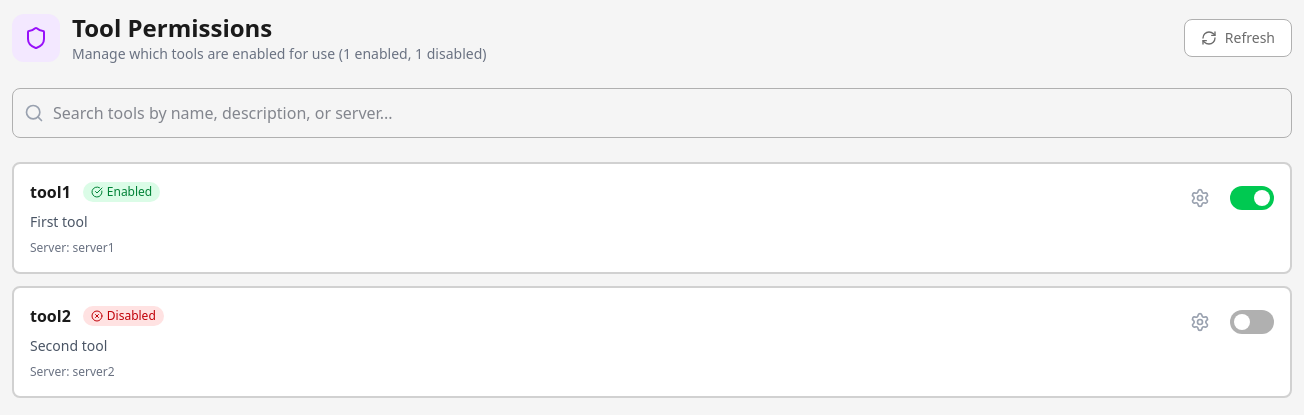
Test: ToolPermissionsManager › should show no matching tools when search has no results
Step 1. Type "nonexistent" into the field with test id "tool-search-input" → point(652, 113), box x1=12 y1=88 x2=1292 y2=138
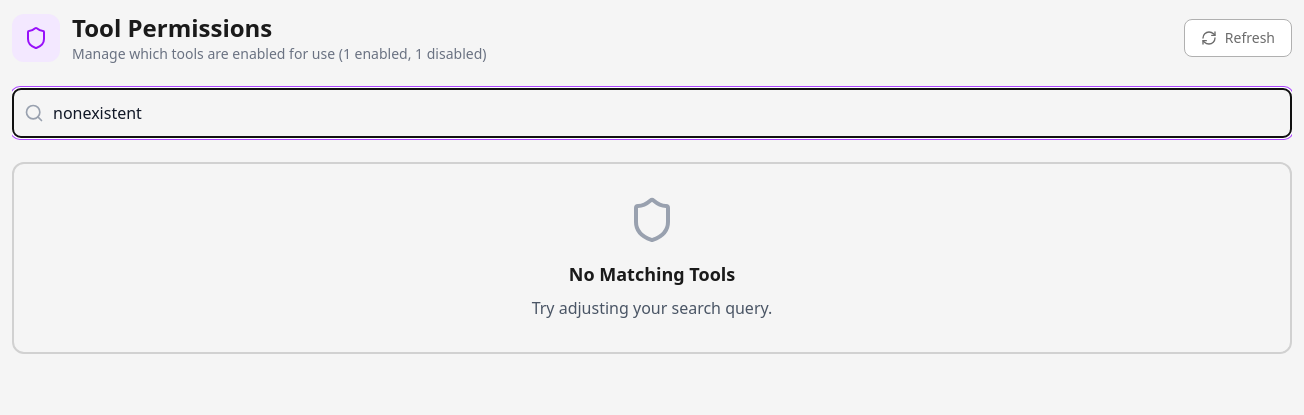
Now the heading "No Matching Tools" is shown, box x1=569 y1=262 x2=735 y2=286
